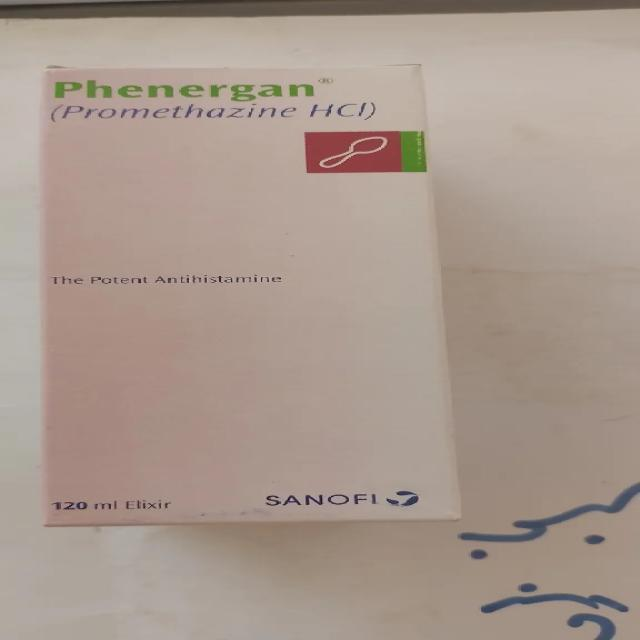drug-name: (52, 78, 316, 100)
